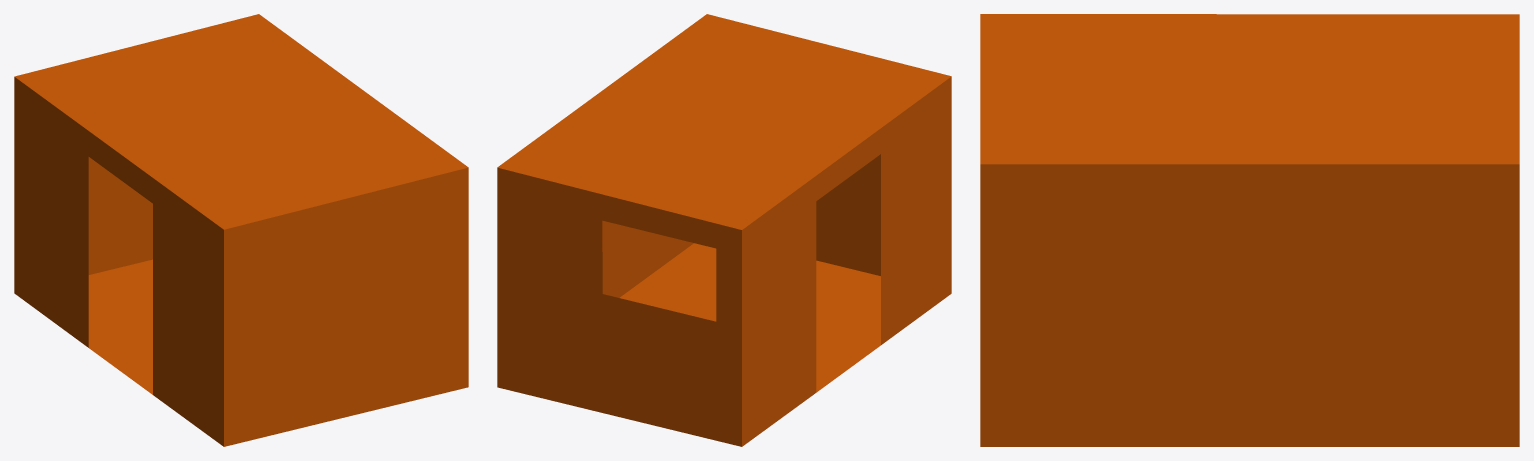
File: Quincho_Room_1b.fbx
3 views of the same model, side by side, from view 1: azimuth 30°, elevation 25°; view 2: azimuth 150°, elevation 25°; view 3: azimuth 270°, elevation 25° (orthographic). The views are drawn at different scales.
Visible parts, largest first — view 1: Cube.759, Cube.757, Cube.758; view 2: Cube.757, Cube.759, Cube.758; view 3: Cube.758, Cube.757.
Boxes of the visible parts, x1,y1,x2,y2 form: Cube.759: (88, 157, 468, 446); Cube.757: (14, 14, 468, 394); Cube.758: (14, 77, 223, 446); Cube.757: (497, 14, 951, 392); Cube.759: (497, 154, 880, 446); Cube.758: (602, 76, 951, 446); Cube.758: (980, 164, 1519, 446); Cube.757: (980, 14, 1519, 164).
Bounding box in the file's own units: 237 × 203 × 351.
